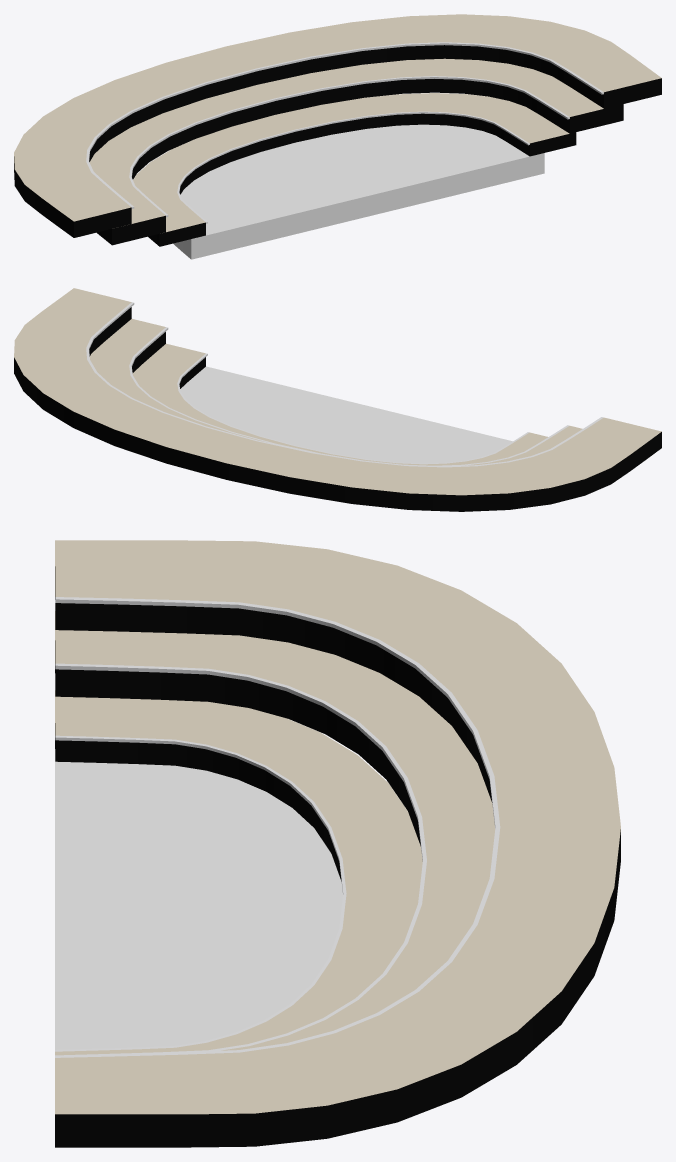
The picture shows the model from 3 angles, top to bottom: view 1: azimuth 30°, elevation 25°; view 2: azimuth 150°, elevation 25°; view 3: azimuth 270°, elevation 25°; orthographic projection. The views are drawn at different scales.
Visible parts, largest first — view 1: Cylinder004, Cylinder001, Cylinder003, Cylinder002; view 2: Cylinder004, Cylinder001, Cylinder003, Cylinder002; view 3: Cylinder004, Cylinder001, Cylinder003, Cylinder002.
Boxes of the visible parts, x1=… form: Cylinder004: x1=14, y1=14, x2=661, y2=237; Cylinder001: x1=173, y1=124, x2=544, y2=259; Cylinder003: x1=89, y1=58, x2=623, y2=245; Cylinder002: x1=133, y1=93, x2=576, y2=246; Cylinder004: x1=14, y1=288, x2=661, y2=511; Cylinder001: x1=180, y1=366, x2=512, y2=463; Cylinder003: x1=89, y1=319, x2=582, y2=466; Cylinder002: x1=132, y1=343, x2=547, y2=465; Cylinder004: x1=55, y1=540, x2=620, y2=1147; Cylinder001: x1=55, y1=749, x2=342, y2=1049; Cylinder003: x1=55, y1=611, x2=495, y2=1055; Cylinder002: x1=55, y1=690, x2=422, y2=1055.
Size of the model in its own units: 1069 by 116 by 445.
